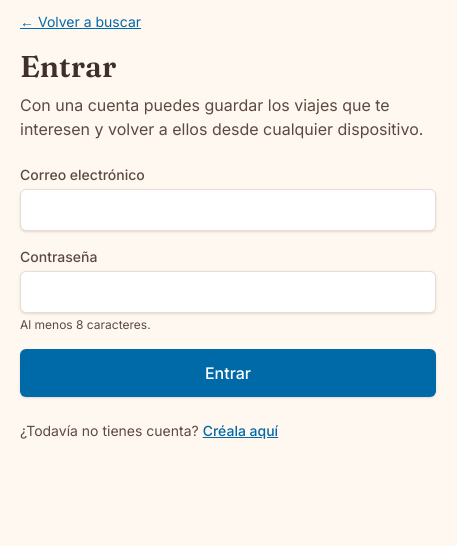
Test case: Pantalla de cuenta › deja crear una cuenta y avisa si hay que confirmar el correo
Click the button "Créala aquí": [240, 431] box [203,421,278,441]
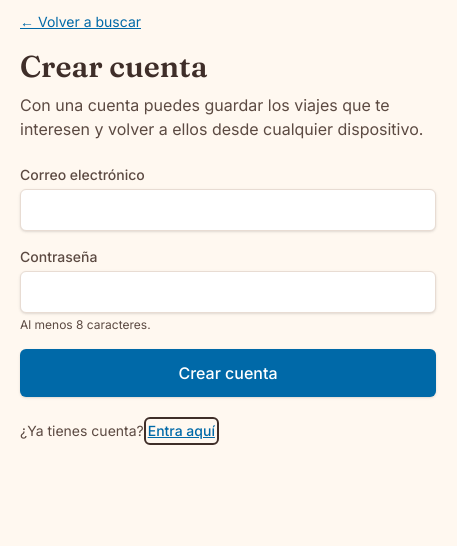
In the field labelled "Correo electrónico": [228, 210] box [20,189,436,231], type "alguien@ejemplo.test"
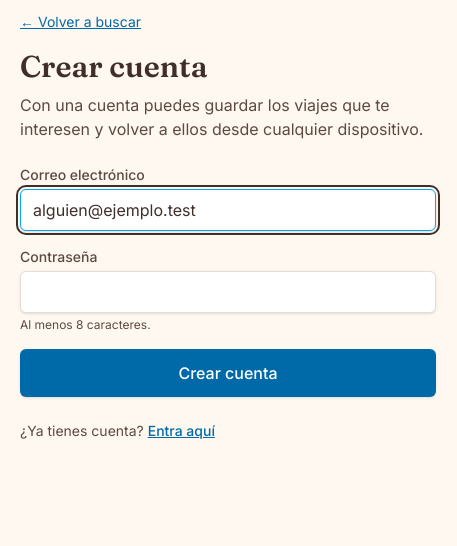
In the password field labelled "Contraseña": [228, 292] box [20,271,436,313], type "contraseña-larga"
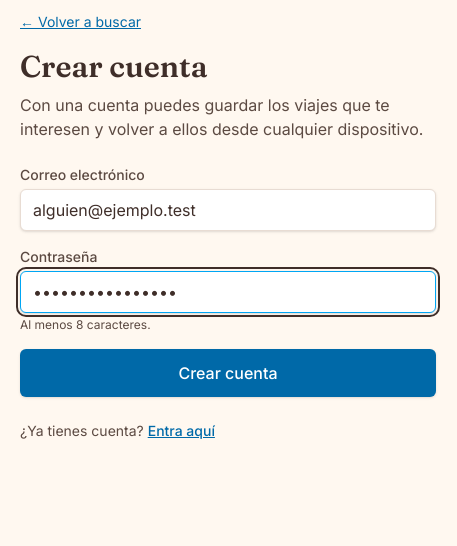
Click the button "Crear cuenta": [228, 373] box [20,349,436,397]
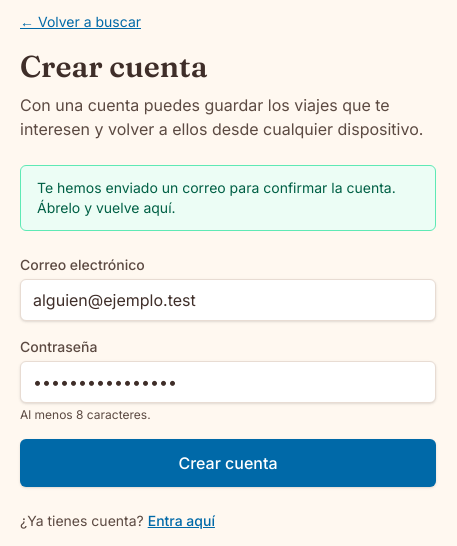
Result: the text "Te hemos enviado un correo para confirmar la cuenta. Ábrelo y vuelve aquí." is shown at [20,165,436,231]
